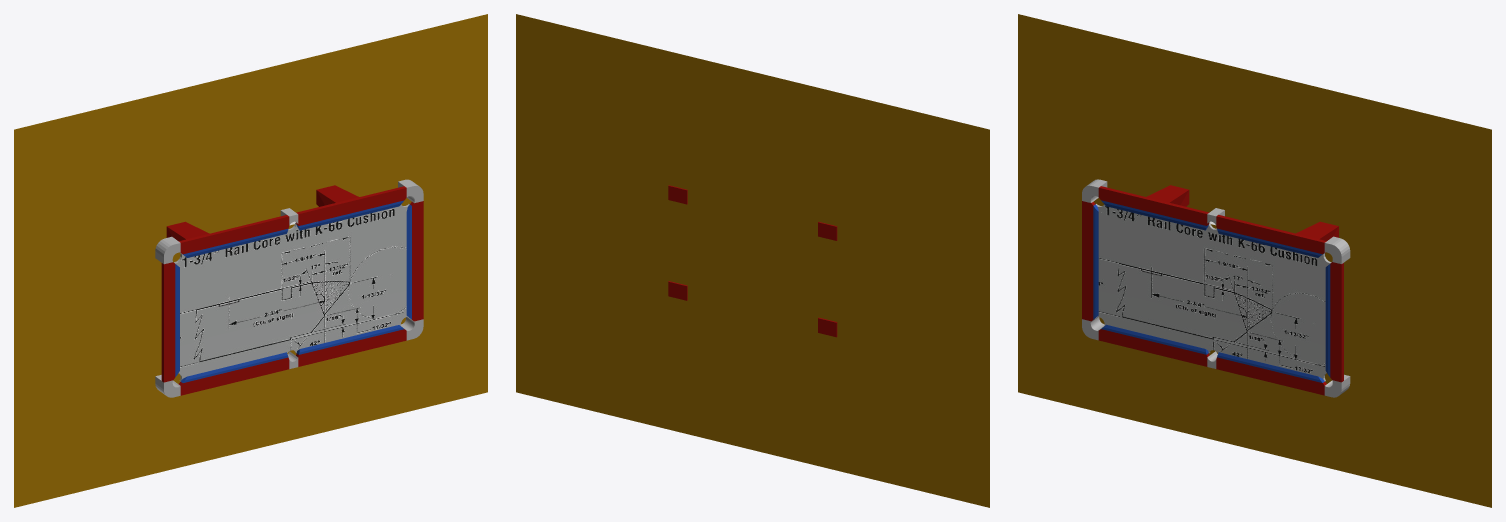
The picture shows the model from 3 angles, left to right: view 1: azimuth 30°, elevation 25°; view 2: azimuth 150°, elevation 25°; view 3: azimuth 330°, elevation 25°; orthographic projection.
Visible parts, largest first — view 1: Room, FullCloth, SideRail, EndRail, SideCushion, CornerMetal, EndCushion, Legs; view 2: Room, Legs; view 3: Room, FullCloth, SideRail, EndRail, SideCushion, CornerMetal, EndCushion, Legs.
Part boxes in pixels (x1=…): Room: x1=14, y1=14, x2=487, y2=507; FullCloth: x1=174, y1=204, x2=409, y2=381; SideRail: x1=178, y1=186, x2=406, y2=395; EndRail: x1=161, y1=201, x2=423, y2=382; SideCushion: x1=181, y1=200, x2=404, y2=382; CornerMetal: x1=155, y1=179, x2=423, y2=397; EndCushion: x1=175, y1=204, x2=411, y2=376; Legs: x1=166, y1=185, x2=358, y2=241; Room: x1=516, y1=14, x2=989, y2=507; Legs: x1=668, y1=185, x2=837, y2=337; Room: x1=1018, y1=14, x2=1491, y2=507; FullCloth: x1=1096, y1=204, x2=1331, y2=381; SideRail: x1=1098, y1=186, x2=1326, y2=395; EndRail: x1=1082, y1=201, x2=1343, y2=382; SideCushion: x1=1101, y1=200, x2=1324, y2=382; CornerMetal: x1=1082, y1=179, x2=1350, y2=397; EndCushion: x1=1093, y1=204, x2=1330, y2=376; Legs: x1=1146, y1=185, x2=1338, y2=252.
Bounding box in the file's own units: 91.67 × 69.95 × 14.65.
Materials: 5 (1 with a texture image).
